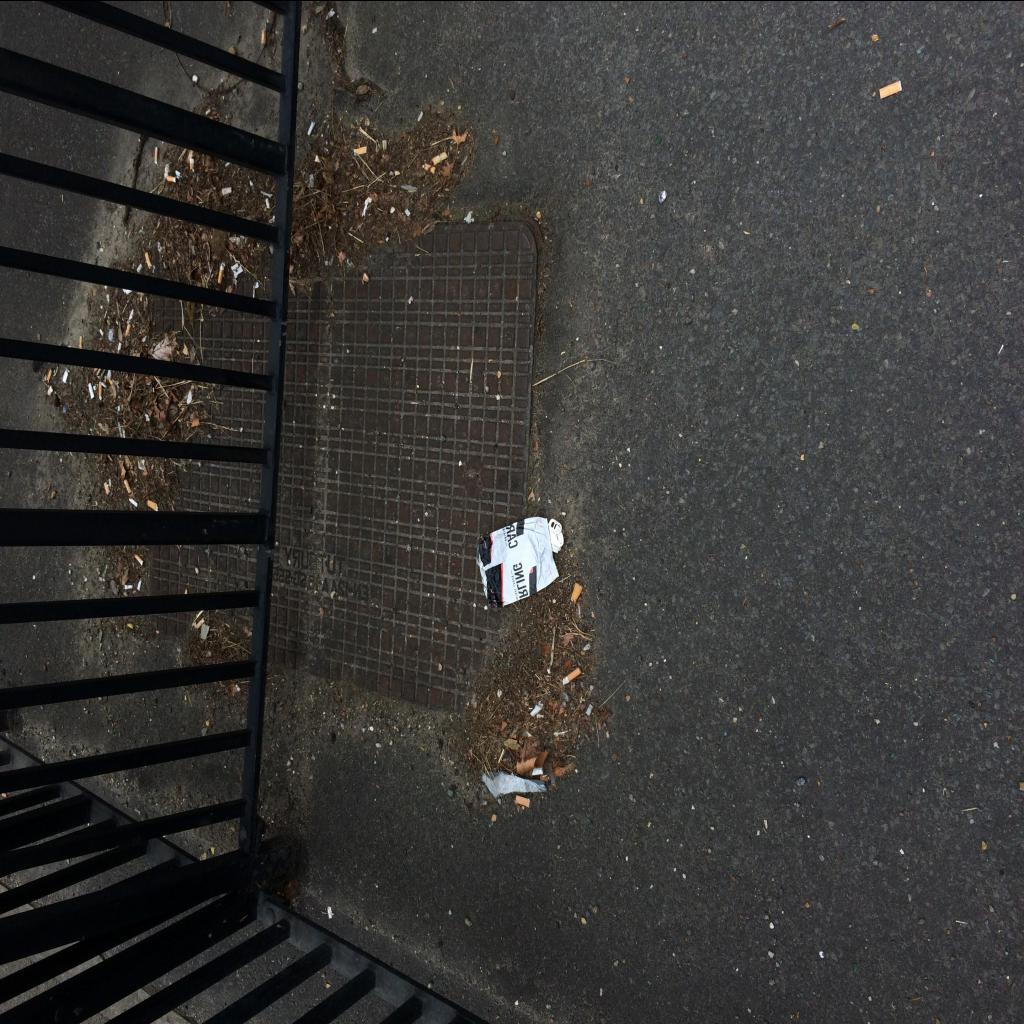Cigarette: (880, 80, 902, 98), (562, 666, 582, 684), (572, 582, 584, 602), (432, 150, 448, 164), (516, 793, 530, 807), (531, 702, 543, 716), (218, 262, 226, 282), (354, 145, 367, 155), (425, 162, 435, 174), (196, 616, 206, 628), (308, 120, 316, 134), (145, 251, 152, 267), (135, 553, 144, 565), (148, 498, 158, 508), (62, 368, 69, 382), (125, 478, 132, 492), (586, 702, 594, 714), (47, 367, 53, 381), (88, 382, 94, 396), (104, 480, 110, 494), (222, 186, 232, 194), (126, 323, 132, 335), (48, 383, 54, 395), (138, 578, 144, 590), (130, 497, 138, 506), (262, 28, 266, 44), (167, 174, 177, 180), (99, 381, 102, 399), (155, 146, 158, 162), (206, 107, 212, 115), (266, 196, 270, 208), (190, 157, 194, 168), (80, 334, 83, 346), (124, 584, 133, 588)
Drink can: (476, 516, 564, 608)
Pop tab: (549, 518, 562, 534)
Unlabeled litter: (482, 770, 547, 798)
